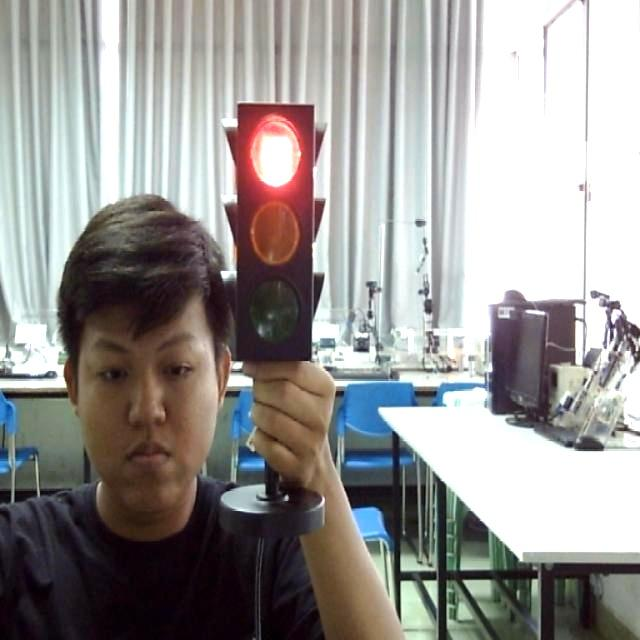Red: (218, 92, 334, 370)
